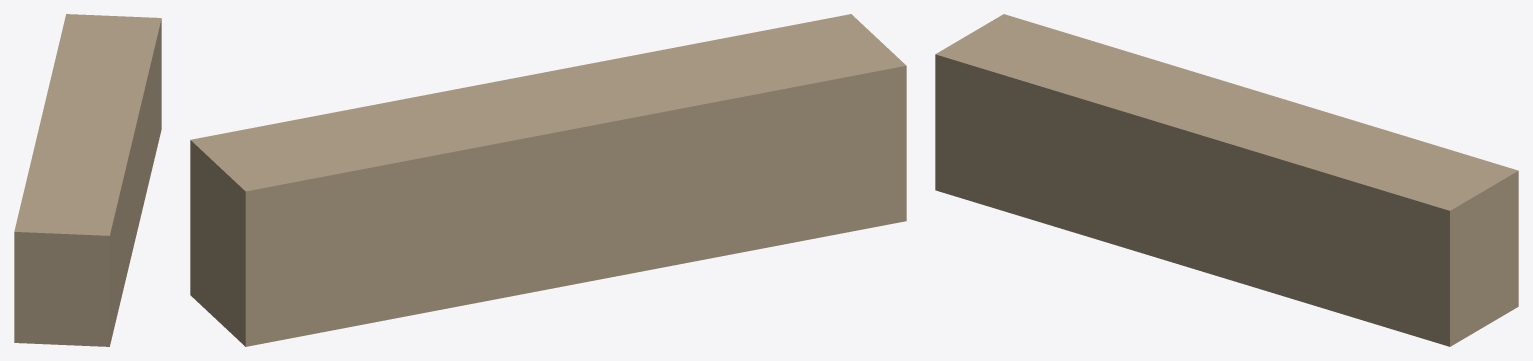
The model's file is bld_99549157.dae.
The picture shows the model from 3 angles, left to right: view 1: azimuth 30°, elevation 25°; view 2: azimuth 150°, elevation 25°; view 3: azimuth 270°, elevation 25°; orthographic projection. The views are drawn at different scales.
Parts seen in each view (by area): view 1: bld_99549157; view 2: bld_99549157; view 3: bld_99549157.
Boxes of the visible parts, x1,y1,x2,y2 form: bld_99549157: (14,14,161,346); bld_99549157: (190,14,906,346); bld_99549157: (935,14,1518,346).
Size of the model in its own units: 24.84 by 31.1 by 8.
